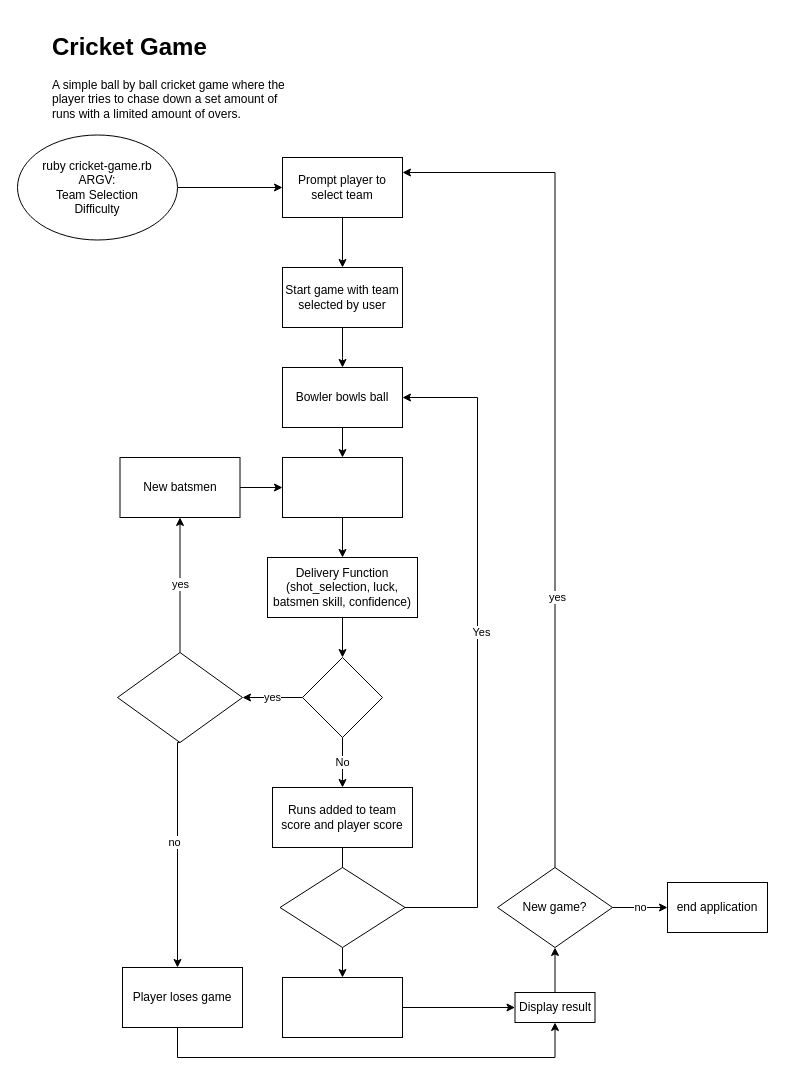
Image size: 785x1083. Some labels were removed from this diagram. Here are the shapes that lost their labels. From the top down, the centre of each, then its label:
At pixel 342 487: "Player to select shot type".
At pixel 179 697: "Are wickets < 10".
At pixel 342 697: "Wicket?".
At pixel 342 907: "Are runs < target".
At pixel 342 1007: "Player wins game".
